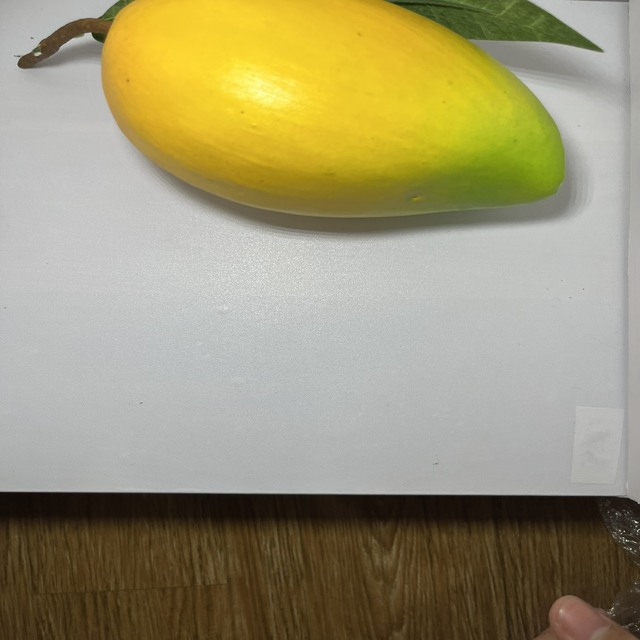Xoai: (80, 0, 569, 219)
